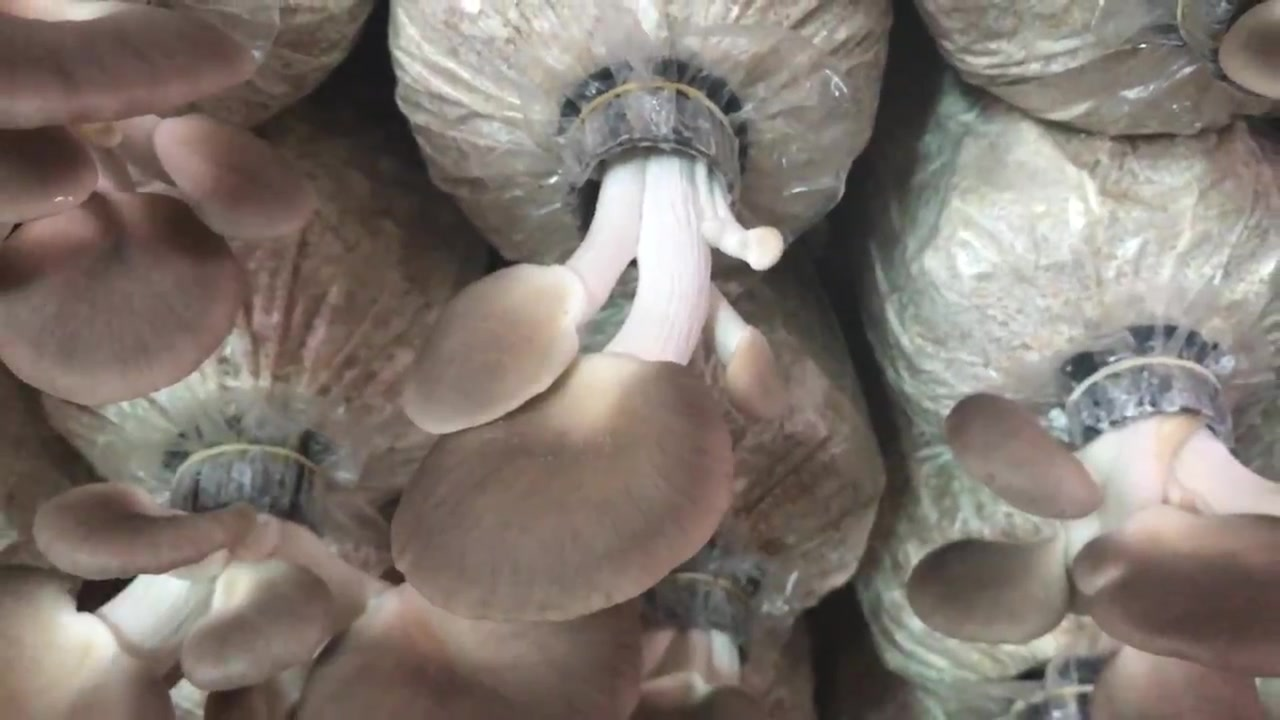nam: (392, 64, 795, 627), (1, 487, 652, 719), (6, 1, 324, 405), (907, 363, 1280, 681)
